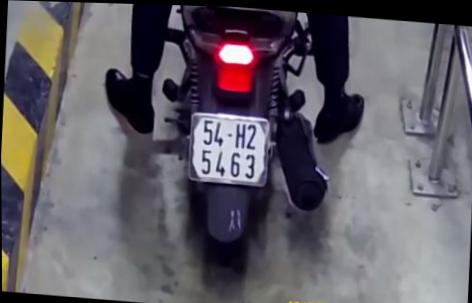LP: (185, 109, 272, 188)
